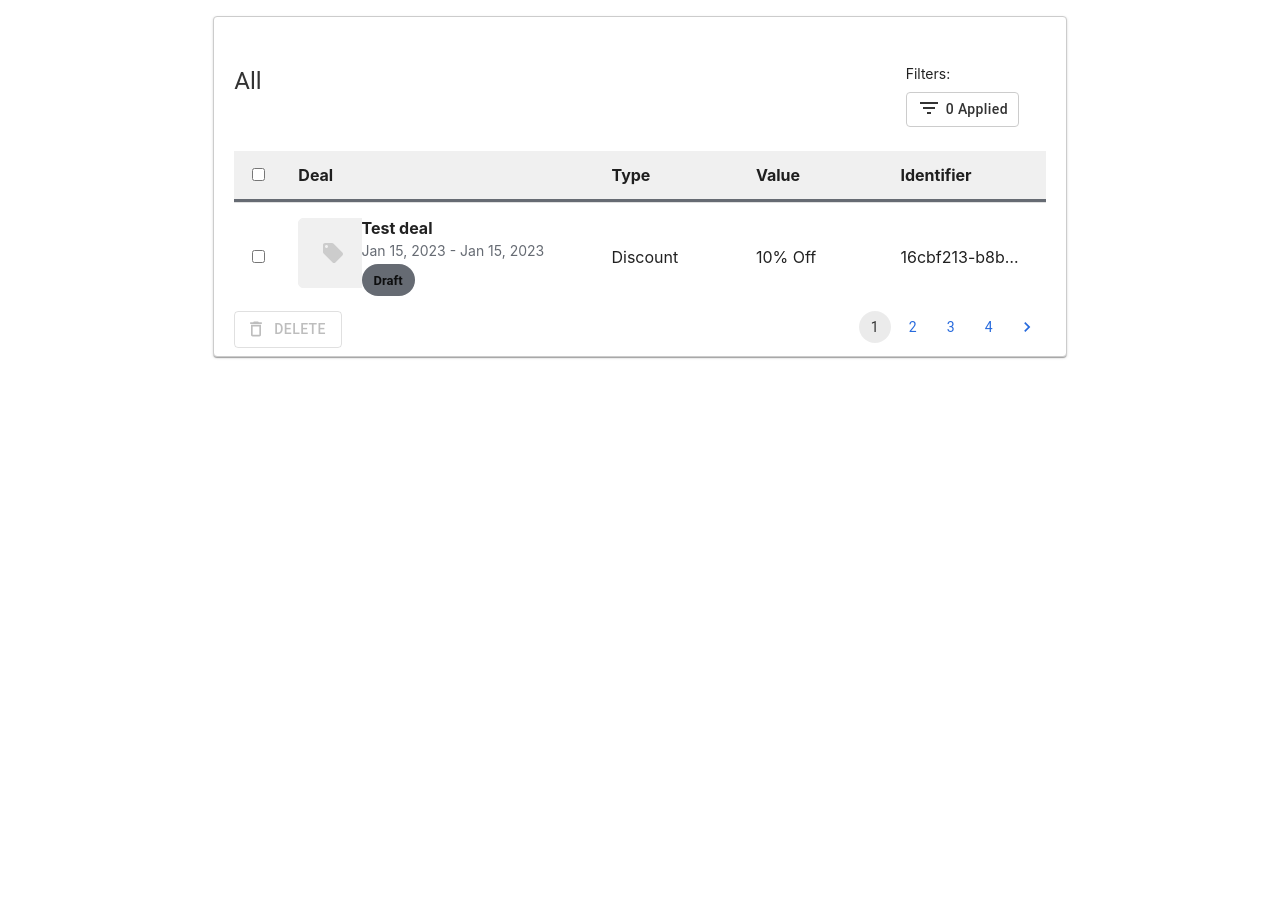
it: All Deals tests › should close the delete modal on exit button click
Click the checkbox named "select-all-rows" at (259, 174), box [252, 168, 265, 180]
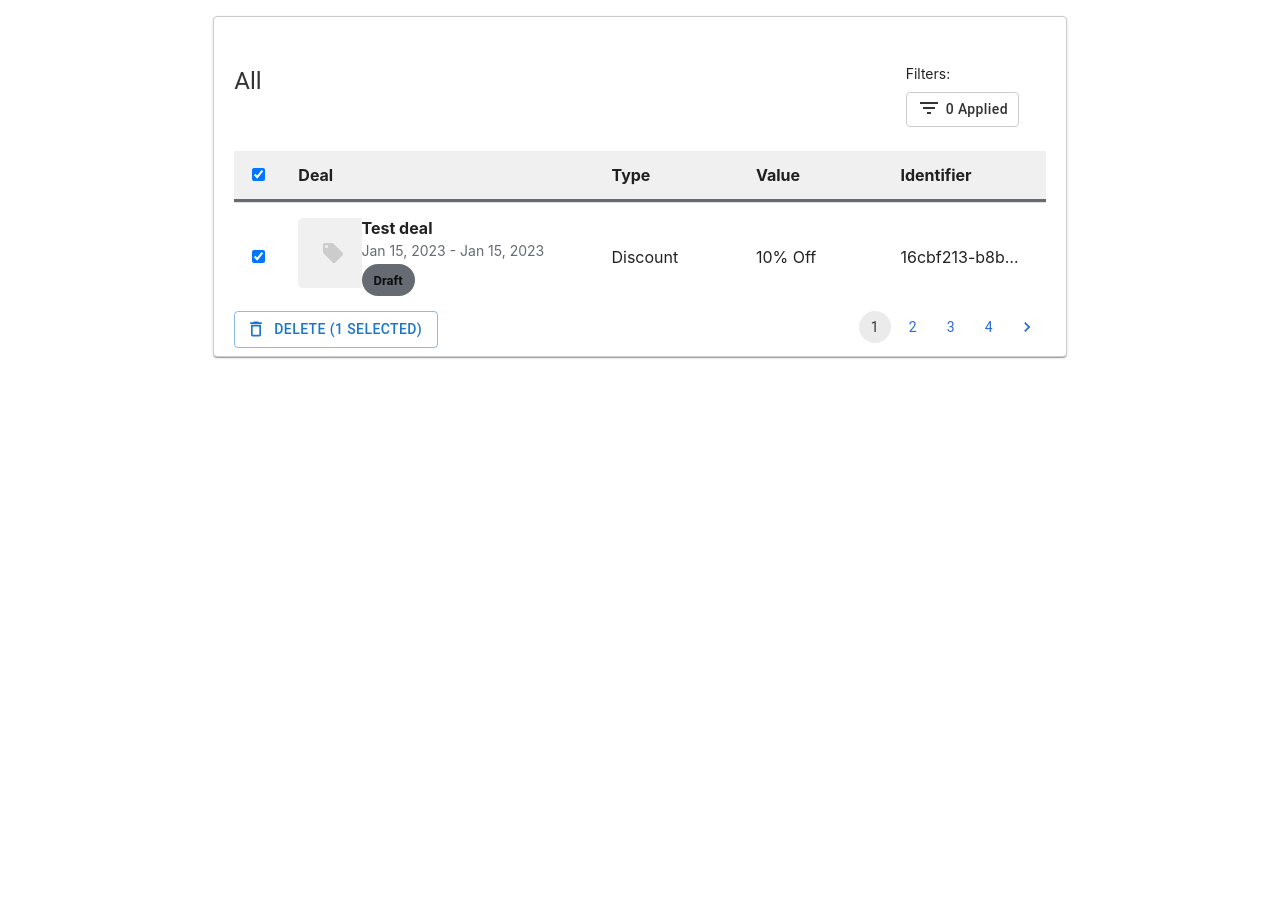
Click the button with test id "delete-btn" at (336, 329), box [234, 311, 438, 348]
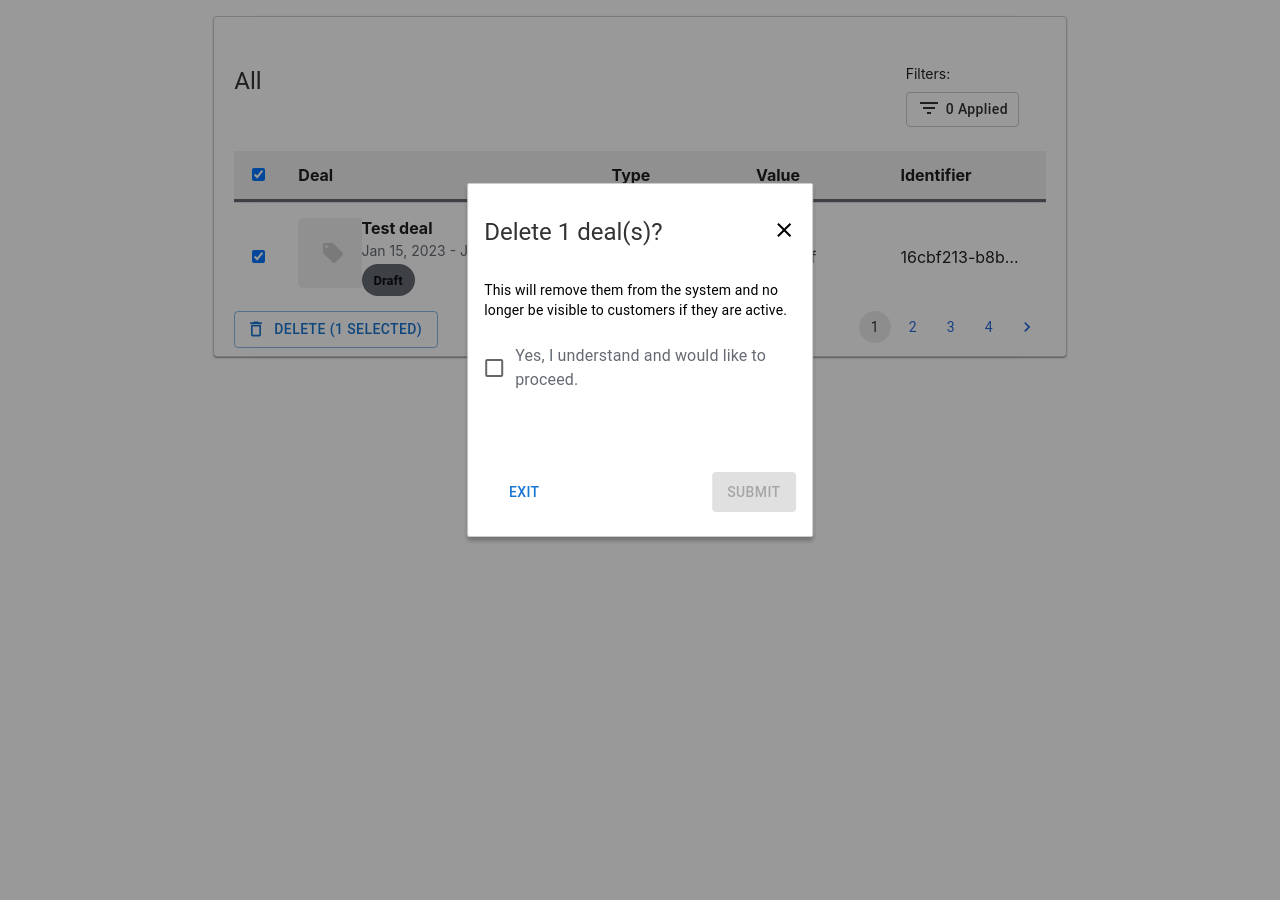
Click the button with test id "exitBtn" at (524, 492), box [484, 472, 564, 512]
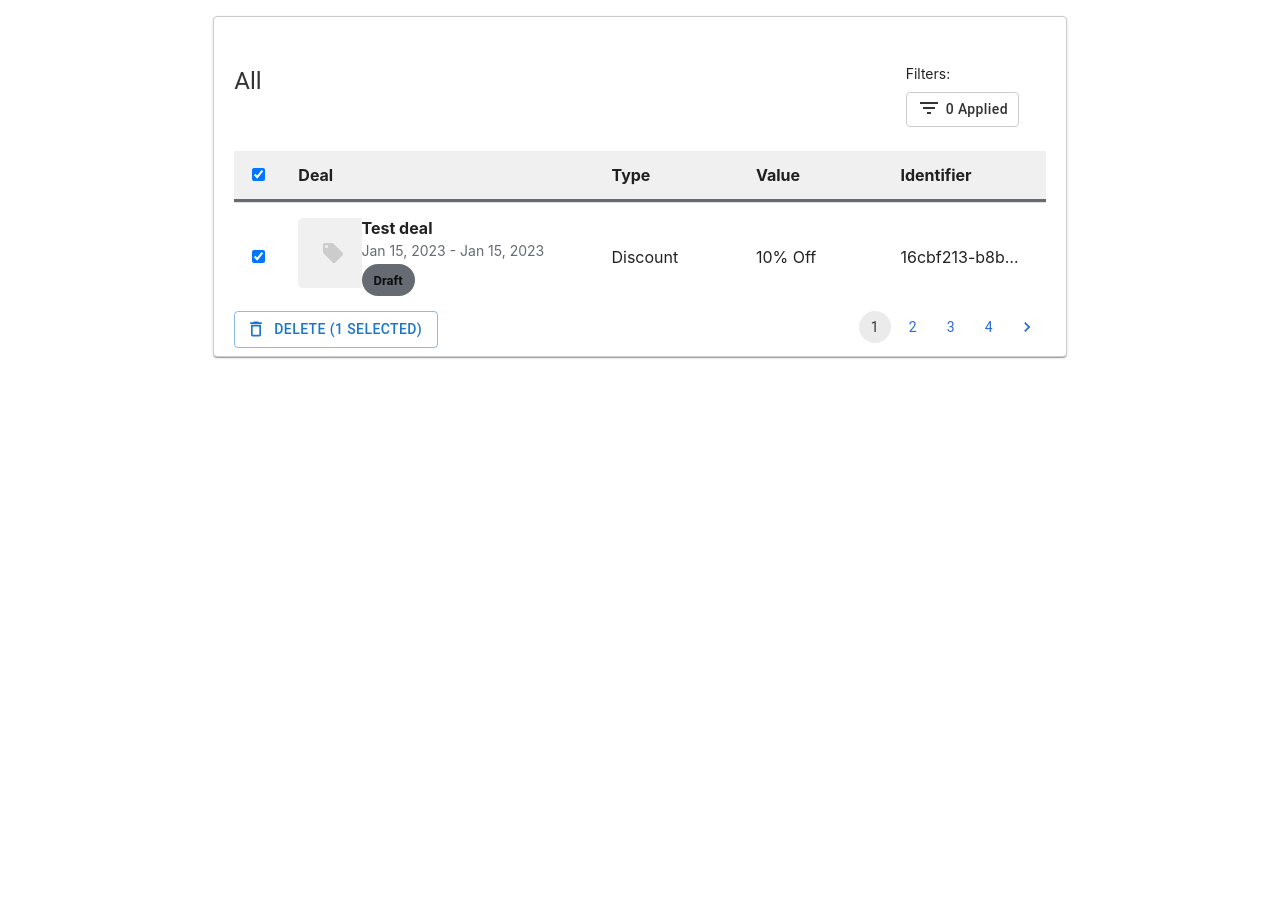
Expected: the text "Yes, I understand and would like to proceed." is gone
